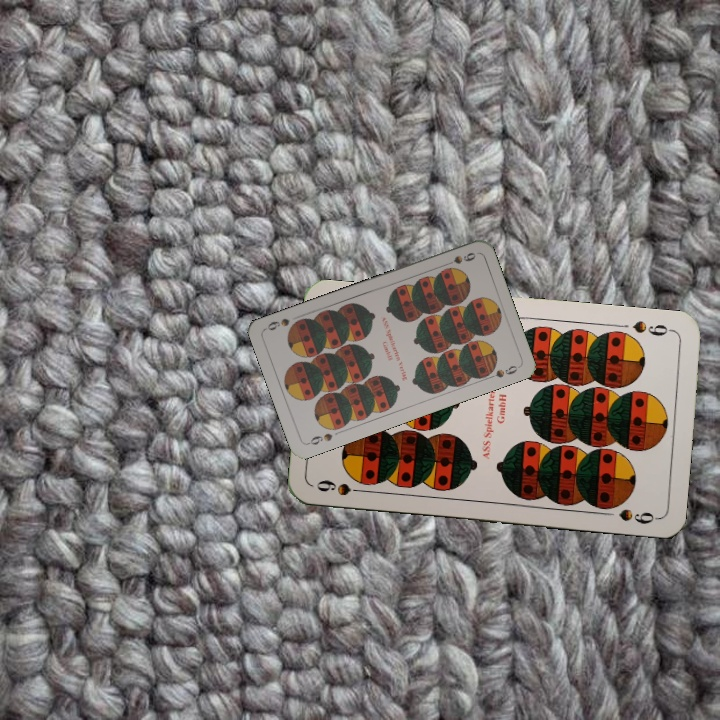S9: (312, 476, 371, 498), (628, 316, 676, 339), (439, 248, 478, 269), (304, 429, 335, 447)
